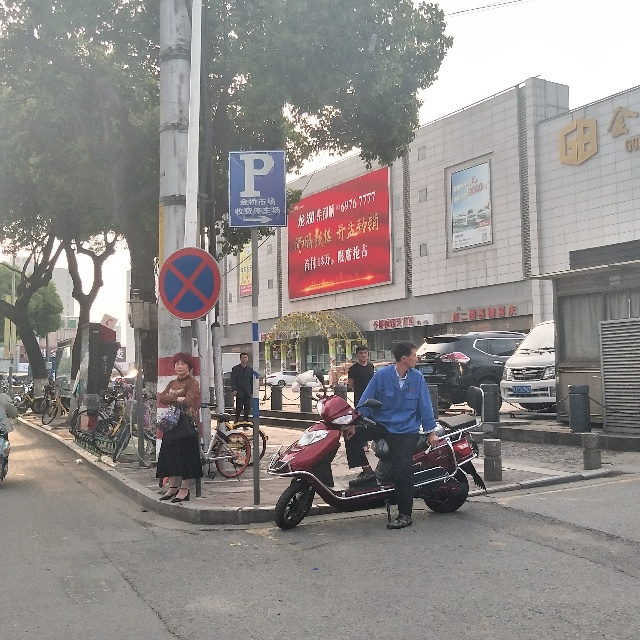stop: (159, 248, 221, 321)
